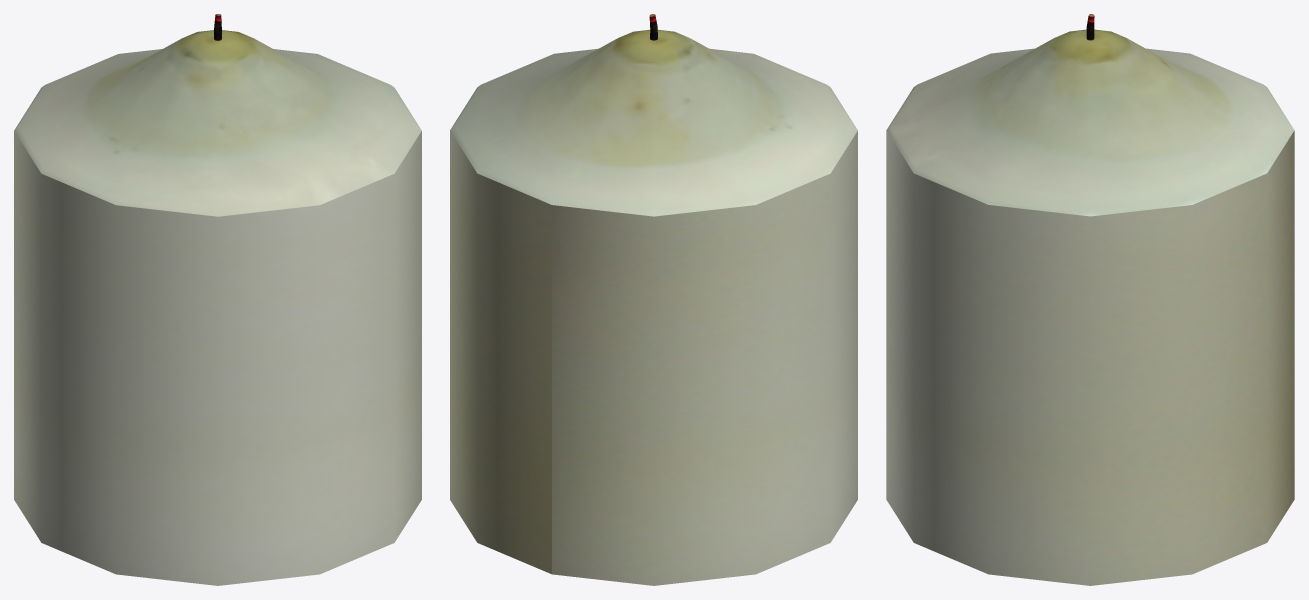
Rendered from tube_candle.fbx.
3 views of the same model, side by side, from view 1: azimuth 30°, elevation 25°; view 2: azimuth 150°, elevation 25°; view 3: azimuth 270°, elevation 25° (orthographic).
Parts seen in each view (by area): view 1: candle_tube; view 2: candle_tube; view 3: candle_tube.
Boxes of the visible parts, bbox=[...] form: candle_tube: bbox=[14, 14, 421, 585]; candle_tube: bbox=[450, 14, 857, 585]; candle_tube: bbox=[886, 14, 1294, 585].
Bounding box in the file's own units: 11.78 × 15.44 × 11.78.
